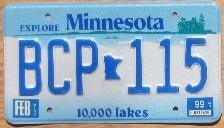1: (127, 37, 153, 95), (155, 37, 181, 95)
5: (183, 35, 209, 94)
B: (17, 38, 44, 96)
C: (46, 37, 72, 96)
P: (73, 38, 100, 98)
